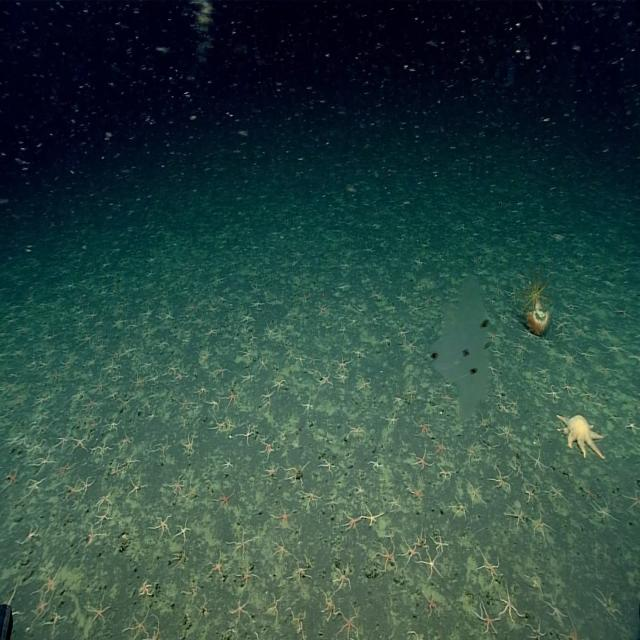brittle-stars: (230, 528, 255, 561), (476, 602, 500, 636), (87, 594, 112, 625), (38, 565, 62, 597), (499, 586, 520, 622), (594, 590, 620, 618), (336, 610, 360, 640), (479, 552, 502, 582), (376, 543, 398, 573), (128, 612, 150, 640), (530, 512, 551, 540), (421, 552, 442, 580), (10, 580, 26, 616), (213, 487, 235, 513), (560, 620, 588, 640), (230, 597, 253, 621), (32, 594, 53, 620), (546, 595, 566, 622), (273, 505, 294, 530), (334, 564, 354, 590), (284, 462, 306, 485), (237, 564, 259, 587), (490, 468, 511, 492), (320, 590, 338, 618), (208, 551, 225, 580), (32, 450, 54, 472), (361, 506, 383, 528), (82, 526, 105, 547), (152, 515, 172, 539), (290, 560, 310, 584), (47, 608, 67, 632), (265, 596, 283, 622), (593, 499, 613, 522), (402, 538, 421, 562), (424, 592, 441, 618), (507, 506, 527, 528), (22, 522, 42, 544), (413, 448, 432, 471), (128, 474, 146, 498), (342, 511, 362, 532), (26, 477, 47, 497), (272, 536, 290, 559), (175, 518, 192, 542), (466, 482, 483, 506), (300, 489, 320, 509), (527, 620, 547, 640), (450, 496, 468, 518), (432, 437, 449, 460), (408, 480, 425, 503), (3, 468, 19, 491), (94, 441, 112, 461), (95, 490, 113, 510), (625, 488, 640, 512), (431, 530, 447, 552), (290, 608, 306, 630), (168, 476, 185, 496), (530, 451, 546, 472), (117, 431, 133, 452), (196, 596, 208, 624), (140, 579, 156, 599), (157, 438, 173, 458), (183, 484, 199, 504), (464, 442, 478, 464), (530, 572, 544, 594), (347, 423, 365, 440), (415, 420, 432, 438), (561, 348, 578, 366), (95, 511, 113, 528), (57, 460, 75, 477), (498, 423, 514, 442), (240, 424, 255, 444), (79, 477, 94, 497), (72, 436, 88, 454), (56, 433, 72, 451), (177, 393, 193, 411), (440, 464, 456, 482), (146, 622, 162, 640), (603, 342, 622, 357), (181, 435, 195, 455), (184, 583, 198, 603), (64, 482, 80, 499), (2, 376, 19, 392), (561, 379, 576, 397), (337, 354, 352, 372), (262, 440, 276, 459), (384, 413, 400, 429), (579, 346, 595, 362), (550, 486, 566, 502), (265, 462, 281, 478), (511, 341, 527, 357), (224, 390, 239, 407), (33, 392, 50, 407), (27, 437, 42, 454), (106, 415, 120, 433), (546, 384, 561, 400), (321, 458, 336, 474), (583, 387, 599, 402), (104, 360, 120, 375), (358, 376, 372, 393), (210, 416, 224, 433), (482, 439, 496, 456), (34, 421, 51, 435), (616, 307, 634, 320), (303, 393, 314, 414), (417, 530, 428, 551), (213, 362, 228, 377), (121, 344, 136, 359), (172, 553, 187, 568), (318, 372, 332, 388), (626, 418, 640, 434), (125, 455, 139, 471), (388, 494, 401, 511), (512, 460, 525, 477), (408, 629, 428, 640), (524, 484, 536, 502), (480, 414, 492, 432), (353, 346, 367, 361), (84, 398, 98, 413), (94, 378, 108, 393), (240, 347, 254, 362), (144, 409, 158, 424), (112, 314, 125, 330), (584, 486, 597, 502), (133, 374, 146, 390), (88, 415, 101, 431), (274, 378, 288, 392), (173, 368, 187, 382), (486, 361, 500, 375), (242, 370, 255, 385), (406, 339, 419, 354), (206, 323, 219, 338), (596, 363, 611, 376), (199, 348, 212, 363), (208, 396, 220, 412), (260, 355, 272, 371), (442, 390, 454, 406), (119, 397, 135, 409), (242, 312, 255, 326), (488, 331, 502, 344), (368, 457, 381, 471), (496, 399, 508, 414), (197, 383, 209, 398), (293, 352, 305, 367), (354, 482, 365, 498), (267, 322, 278, 338), (264, 388, 275, 404), (326, 494, 337, 510), (283, 319, 296, 332), (599, 325, 612, 338), (142, 306, 154, 320), (428, 400, 440, 414), (111, 463, 122, 478), (406, 387, 417, 402), (277, 326, 287, 342), (103, 391, 119, 401), (336, 372, 349, 384), (221, 457, 233, 470), (251, 298, 263, 311), (492, 347, 504, 360), (180, 415, 192, 428), (93, 341, 105, 354), (414, 255, 426, 268), (310, 363, 322, 376), (509, 395, 520, 409), (163, 309, 174, 323), (318, 352, 329, 366), (95, 314, 106, 328), (506, 288, 517, 302), (554, 321, 568, 332), (224, 418, 234, 433), (410, 304, 422, 316), (308, 353, 319, 366), (186, 301, 197, 314), (444, 379, 455, 392), (150, 370, 160, 384), (594, 399, 608, 409), (424, 295, 436, 306), (382, 336, 393, 348), (393, 394, 404, 406), (369, 313, 379, 326), (397, 327, 408, 338), (349, 315, 359, 327), (495, 384, 505, 396), (317, 306, 329, 316), (396, 291, 406, 302), (342, 302, 352, 313), (356, 303, 366, 314), (384, 302, 394, 313), (192, 315, 202, 326), (512, 408, 521, 418)
